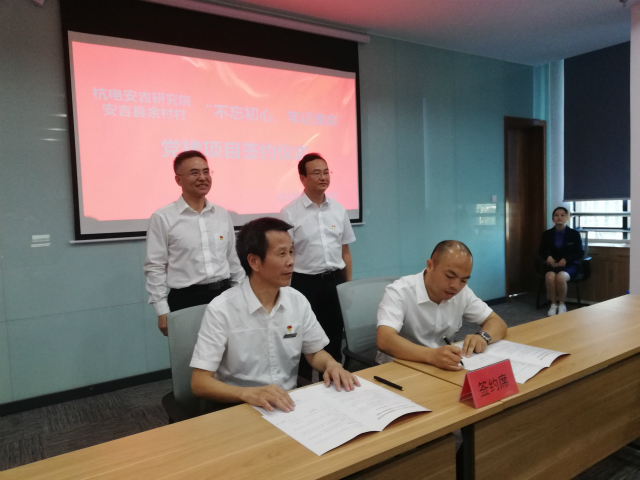noWear: (267, 240, 299, 291), (442, 261, 469, 302), (180, 165, 213, 198), (309, 166, 332, 195), (554, 209, 569, 225)
